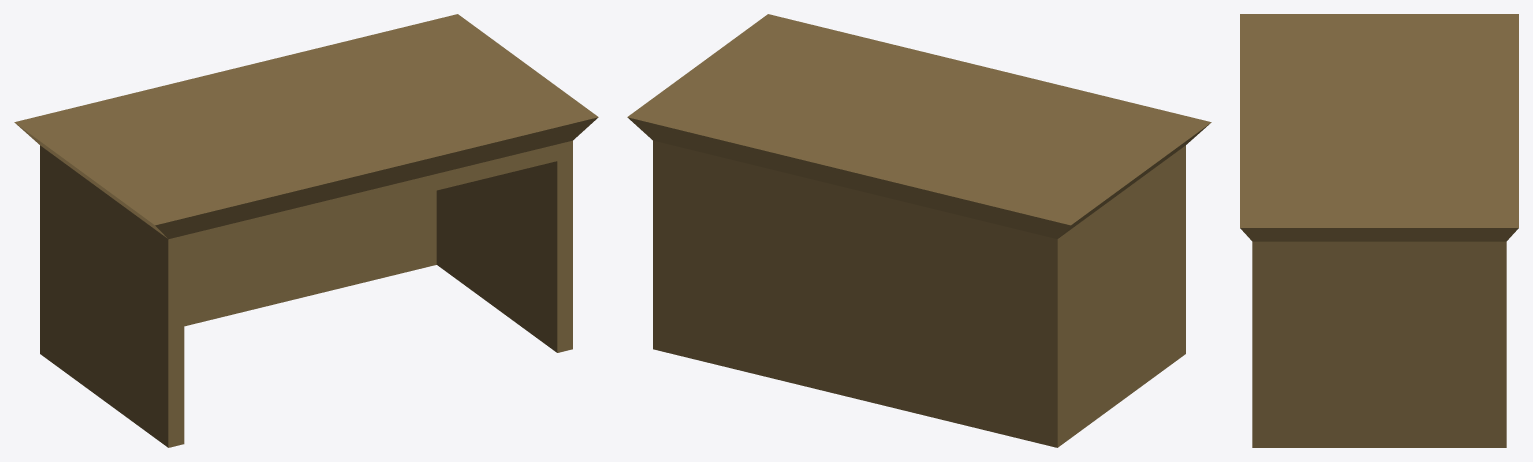
Rendered from Itr_Wardrobe2_Body3_01.FBX.
3 views of the same model, side by side, from view 1: azimuth 30°, elevation 25°; view 2: azimuth 150°, elevation 25°; view 3: azimuth 270°, elevation 25° (orthographic).
Visible parts, largest first — view 1: Itr_Wardrobe2_Body3_01; view 2: Itr_Wardrobe2_Body3_01; view 3: Itr_Wardrobe2_Body3_01.
Part boxes in pixels (bbox=[...]): Itr_Wardrobe2_Body3_01: bbox=[14, 14, 598, 447]; Itr_Wardrobe2_Body3_01: bbox=[627, 14, 1211, 447]; Itr_Wardrobe2_Body3_01: bbox=[1240, 14, 1518, 447].
Bounding box in the file's own units: 42.93 × 21.43 × 23.62.
